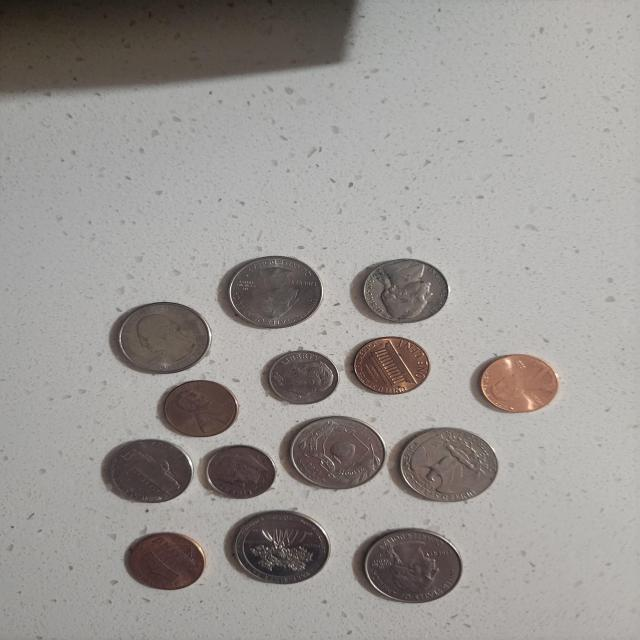Dime: (258, 346, 344, 408), (196, 442, 281, 502)
Nickel: (94, 434, 198, 510), (355, 256, 452, 326)
Penny: (468, 348, 562, 416), (346, 331, 434, 399), (156, 374, 244, 442), (125, 528, 208, 594)
Quarter: (212, 249, 329, 334), (277, 413, 390, 495), (395, 423, 503, 507), (225, 507, 334, 590), (108, 293, 214, 377), (361, 525, 464, 607)
